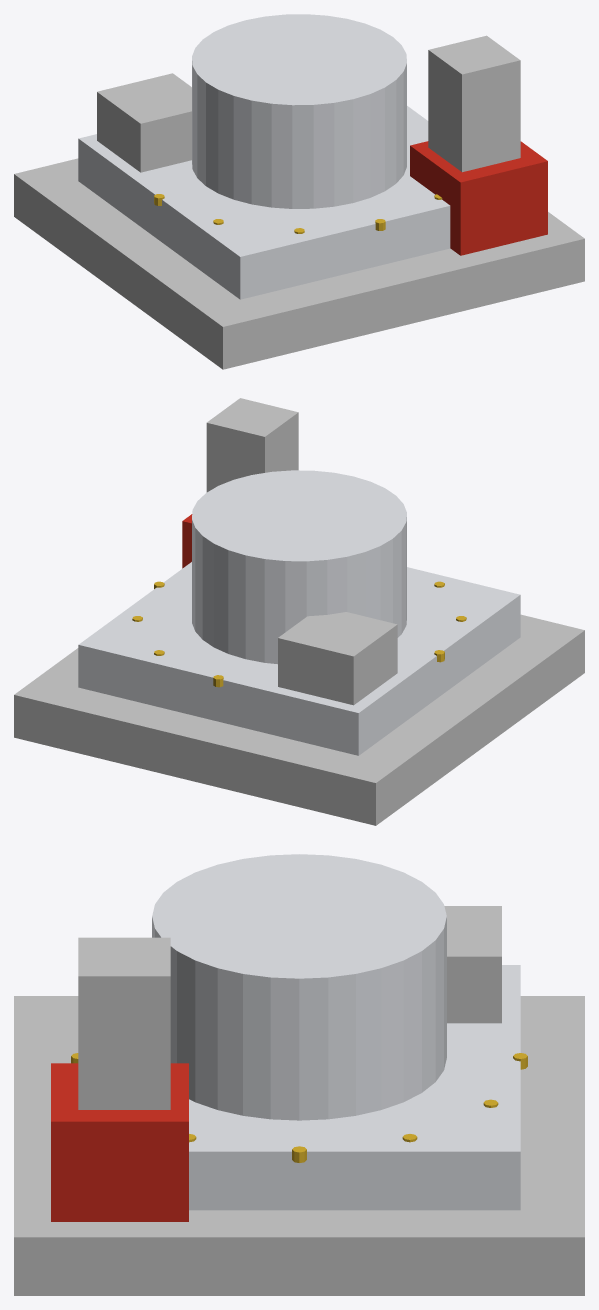
The model's file is ciws.obj.
The picture shows the model from 3 angles, top to bottom: view 1: azimuth 30°, elevation 25°; view 2: azimuth 150°, elevation 25°; view 3: azimuth 270°, elevation 25°; orthographic projection. The views are drawn at different scales.
Visible parts, largest first — view 1: ciws; view 2: ciws; view 3: ciws.
Part boxes in pixels (bbox=[...]): ciws: bbox=[14, 14, 584, 369]; ciws: bbox=[14, 398, 584, 825]; ciws: bbox=[14, 854, 584, 1295].
Bounding box in the file's own units: 1.24 × 0.7 × 1.24.
